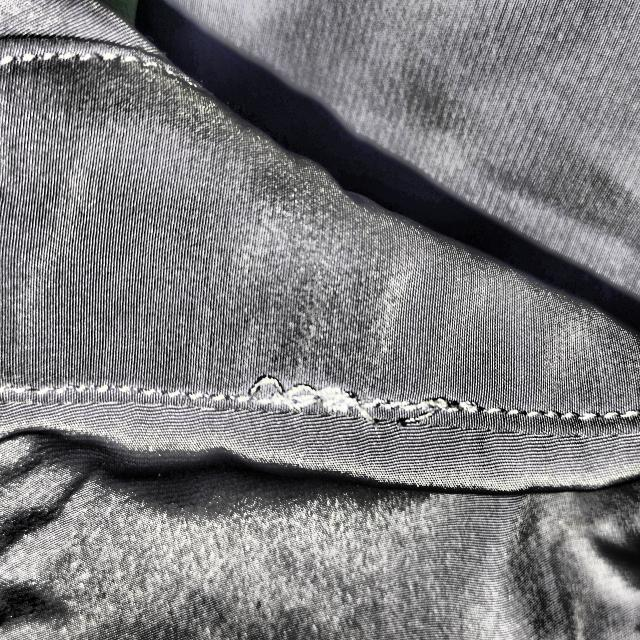Stitch: (230, 348, 480, 456)
